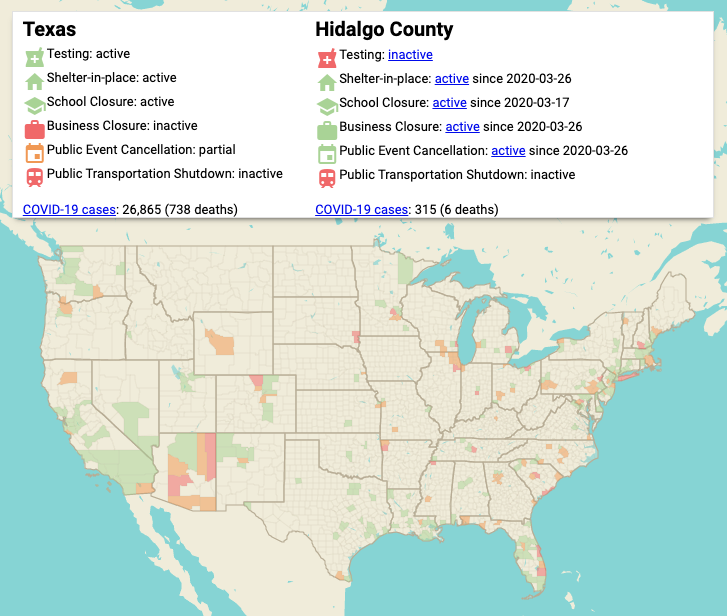

This screenshot's page, from the dashboard's own definition file:
{"tool":"tableau","page":{"name":"Dashboard 1","canvas":[1200,750],"ordinal":0},"visuals":[{"type":"worksheet","box":[0,0,1200,750]},{"type":"worksheet","param":"vert","box":[8,8,1184,470]},{"type":"worksheet","box":[12,12,1176,42]},{"type":"worksheet","title":"Native Community","mark":"Automatic","box":[12,54,1176,1]},{"type":"worksheet","title":"Policy Map (Sized)","mark":"Circle","box":[12,55,1176,419]},{"type":"worksheet","title":"Policy Map (Sized)","mark":"Circle","param":"[federated.10pshiv1sgpmcb14yeji70yfbqdc].[sum:Calculation_4646026025863487492:qk","box":[1014,304,142,61]},{"type":"worksheet","param":"[Parameters].[Parameter 1]","box":[1014,375,160,69]},{"type":"worksheet","param":"/Users/adeshkadambi/Documents/GitHub/covid19countymap/logo.png","box":[20,397,124,56]},{"type":"worksheet","param":"horz","box":[8,478,1184,264]},{"type":"worksheet","param":"vert","box":[8,478,1184,264]},{"type":"worksheet","param":"vert","box":[8,478,1184,264]},{"type":"worksheet","param":"vert","box":[8,478,1184,264]},{"type":"worksheet","param":"horz","box":[8,478,1184,264]},{"type":"worksheet","box":[8,478,1184,264]},{"type":"worksheet","title":"Stats","mark":"Automatic","rows":["Calculation_4646026025404739585","state","NAME"],"cols":["Calculation_4646026025863487492","Calculation_4646026025863847941","Calculation_4646026027131293706","policy_score"],"box":[8,478,1184,264]}]}

Visuals, with their boxes on the page's 1200x750 design canvas (x1, y1, x2, y2). These are canvas units, not pixel positions in the 727x616 screenshot, which may show the page scaled, cropped or inside an application window:
worksheet: 0/0/1200/750
worksheet: 8/8/1192/478
worksheet: 12/12/1188/54
"Native Community" worksheet: 12/54/1188/55
"Policy Map (Sized)" worksheet (Circle marks): 12/55/1188/474
"Policy Map (Sized)" worksheet (Circle marks): 1014/304/1156/365
worksheet: 1014/375/1174/444
worksheet: 20/397/144/453
worksheet: 8/478/1192/742
worksheet: 8/478/1192/742
worksheet: 8/478/1192/742
worksheet: 8/478/1192/742
worksheet: 8/478/1192/742
worksheet: 8/478/1192/742
"Stats" worksheet: 8/478/1192/742
